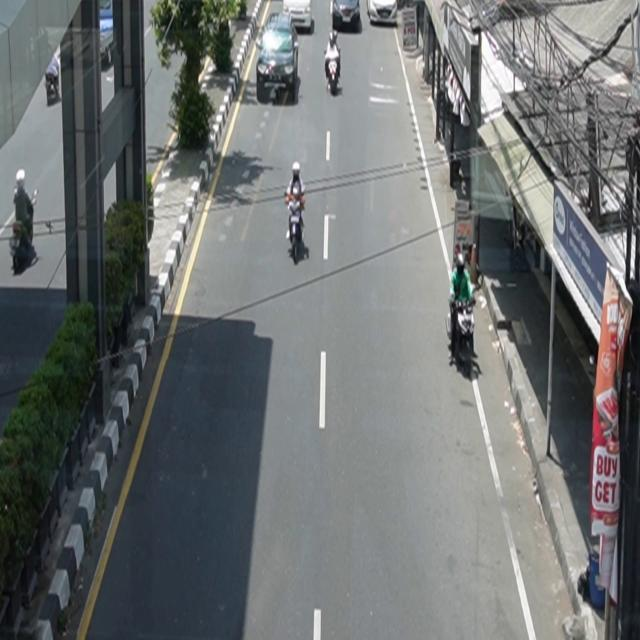car: (257, 13, 300, 97), (367, 1, 398, 26), (332, 1, 361, 27)
